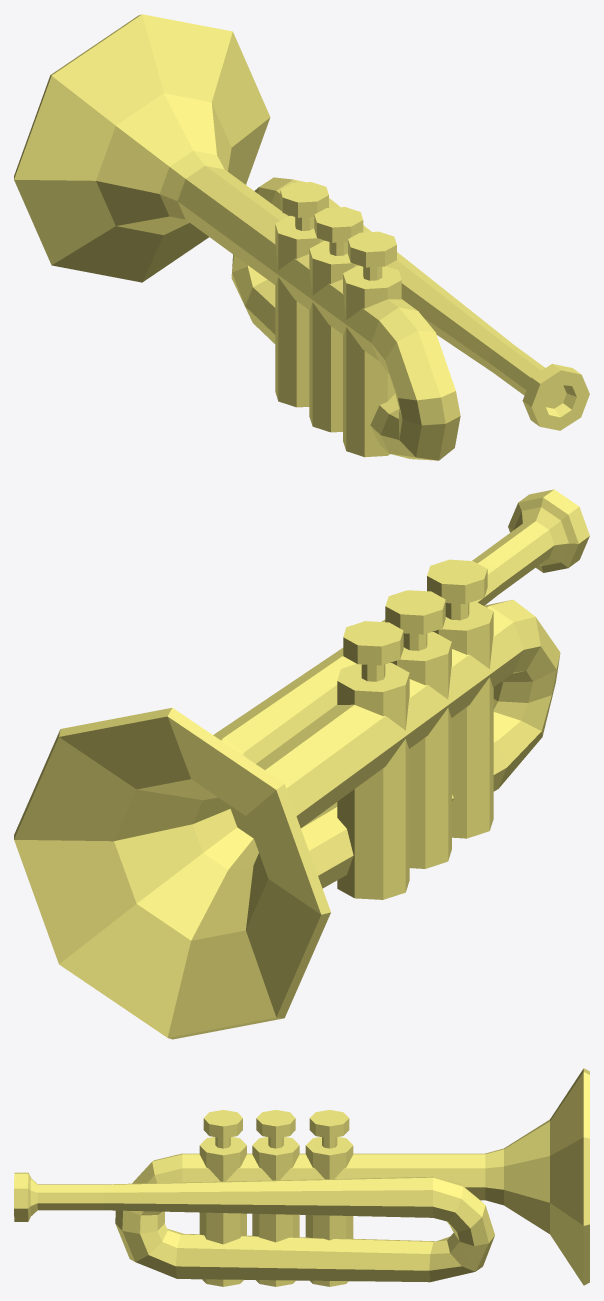
Rendered from Trumpet_from_Poly_by_Google.glb.
3 renders of one model, top to bottom at view 1: azimuth 30°, elevation 25°; view 2: azimuth 150°, elevation 25°; view 3: azimuth 270°, elevation 25°, orthographic. The views are drawn at different scales.
Parts seen in each view (by area): view 1: unnamed; view 2: unnamed; view 3: unnamed.
Part boxes in pixels (x1,y1,x2,y2): unnamed: [14, 14, 589, 460]; unnamed: [14, 489, 589, 1039]; unnamed: [14, 1068, 589, 1286].
Bounding box in the file's own units: 7.24 × 7.24 × 17.99.
